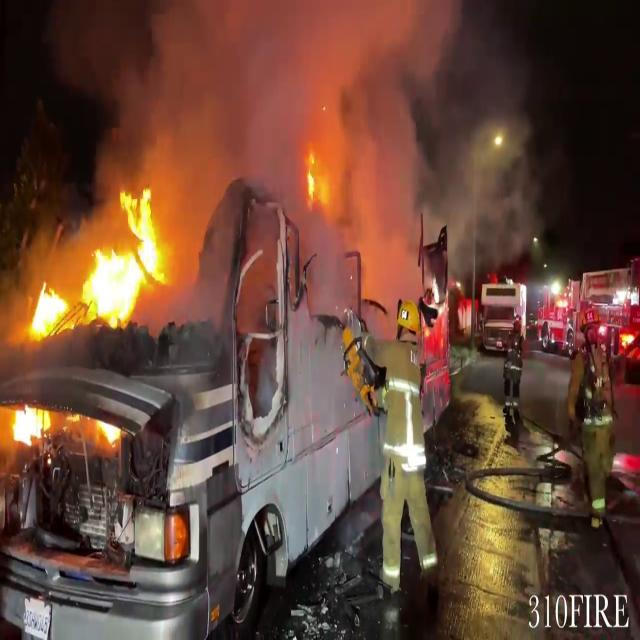Fire: (18, 184, 174, 340), (2, 402, 54, 451)
Smoke: (53, 1, 537, 274)
